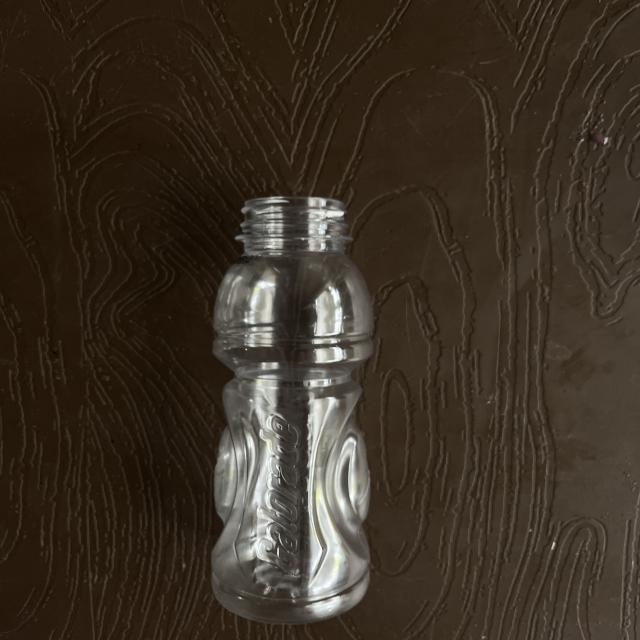PET_ClearBottle: (16, 195, 432, 639)
